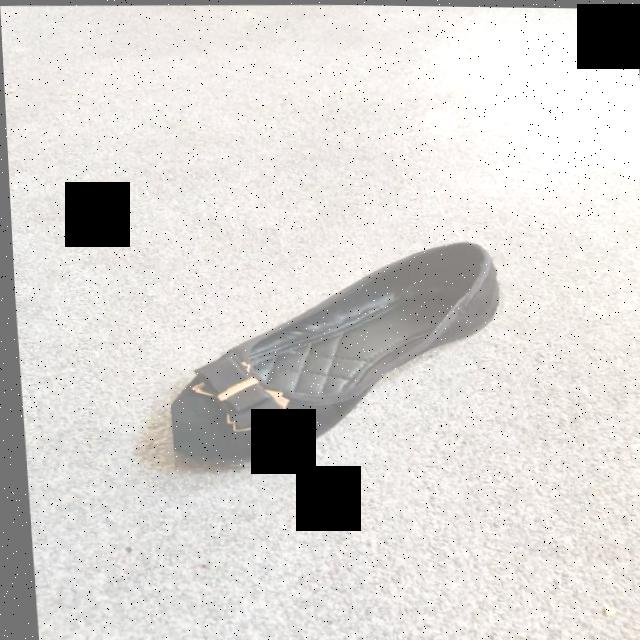shoe: (156, 235, 514, 470)
